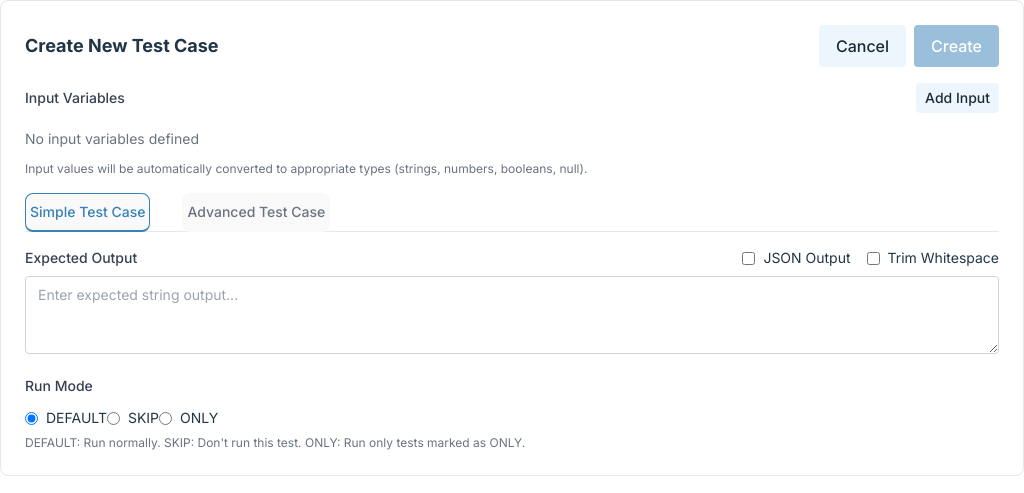
Test: TestCaseEditor › simple tab: clearing expected output disables create button
Note: Add expected output - should enable button
Type "Expected result" into the text box with placeholder "Enter expected string output...". click: (512, 315)
box: [25,276,999,354]
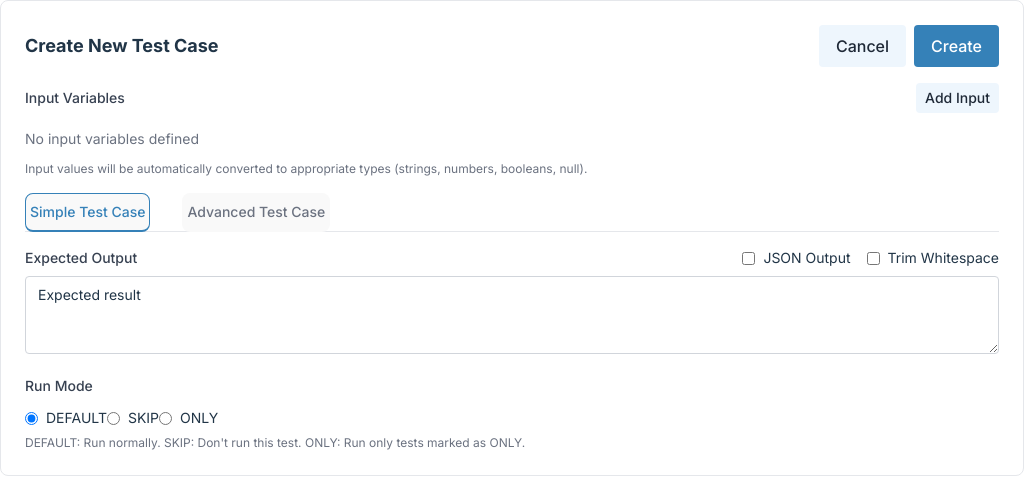
Expected: the button "Create" is enabled, [914,25,999,67]
Note: Clear expected output - should disable button
Clear the text box with placeholder "Enter expected string output...". click: (512, 315)
box: [25,276,999,354]
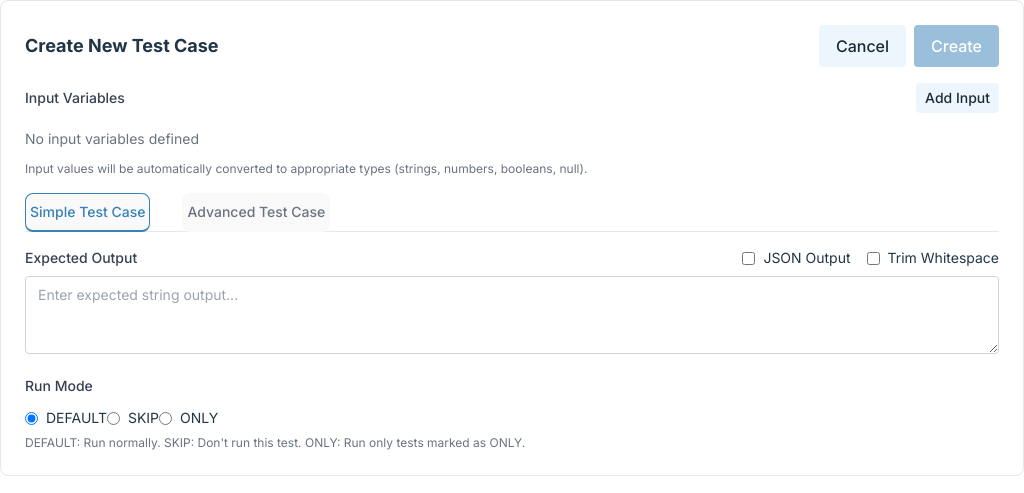
Expected: the button "Create" is disabled, [914,25,999,67]
